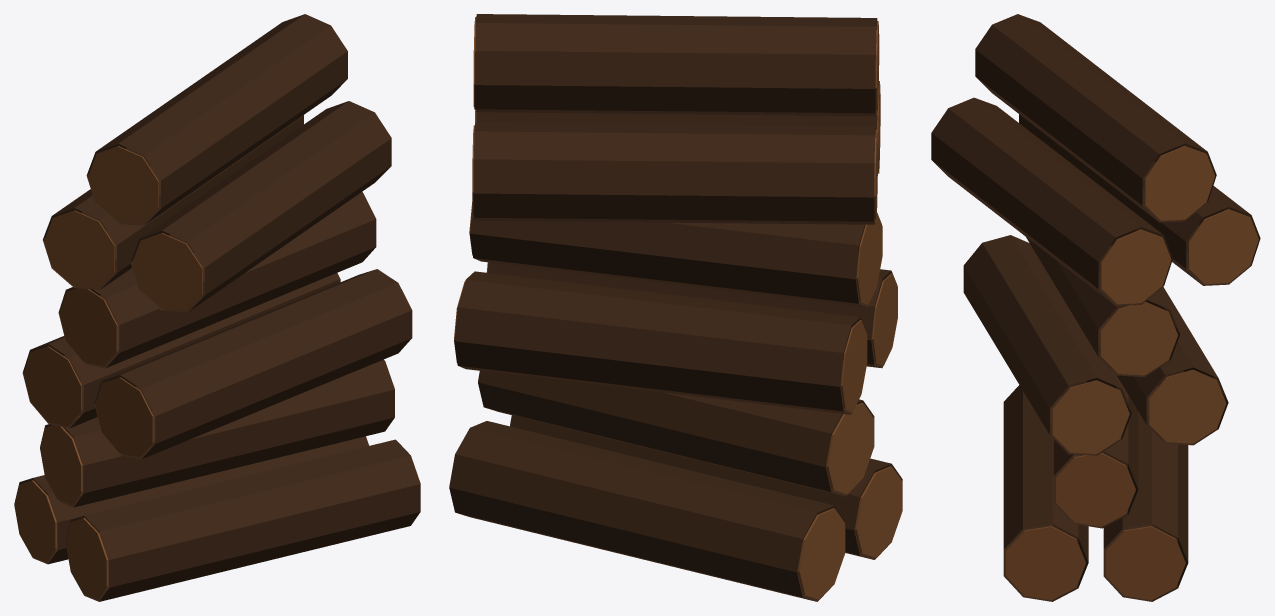
The model's file is Wood_Hard.fbx.
3 renders of one model, left to right at view 1: azimuth 30°, elevation 25°; view 2: azimuth 150°, elevation 25°; view 3: azimuth 270°, elevation 25°, orthographic. The views are drawn at different scales.
Visible parts, largest first — view 1: Wood_Hard__Stack, Wood_Hard; view 2: Wood_Hard__Stack, Wood_Hard; view 3: Wood_Hard__Stack, Wood_Hard.
Boxes of the visible parts, x1=… form: Wood_Hard__Stack: x1=22, y1=14, x2=420, y2=601; Wood_Hard: x1=14, y1=360, x2=420, y2=601; Wood_Hard__Stack: x1=449, y1=14, x2=901, y2=601; Wood_Hard: x1=471, y1=399, x2=902, y2=601; Wood_Hard__Stack: x1=931, y1=14, x2=1260, y2=601; Wood_Hard: x1=1003, y1=385, x2=1187, y2=601.
Bounding box in the file's own units: 0.3166 × 0.3965 × 0.264.
